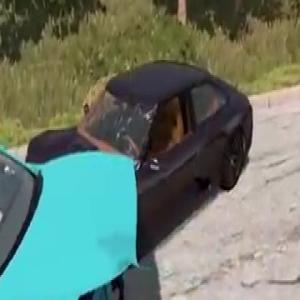superficial: (0, 51, 266, 300)
